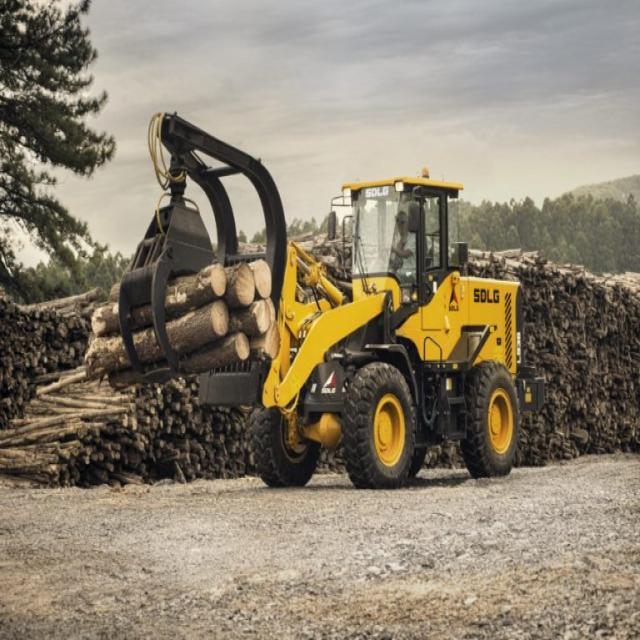buldozerpayloadergrader: (262, 160, 535, 496)
